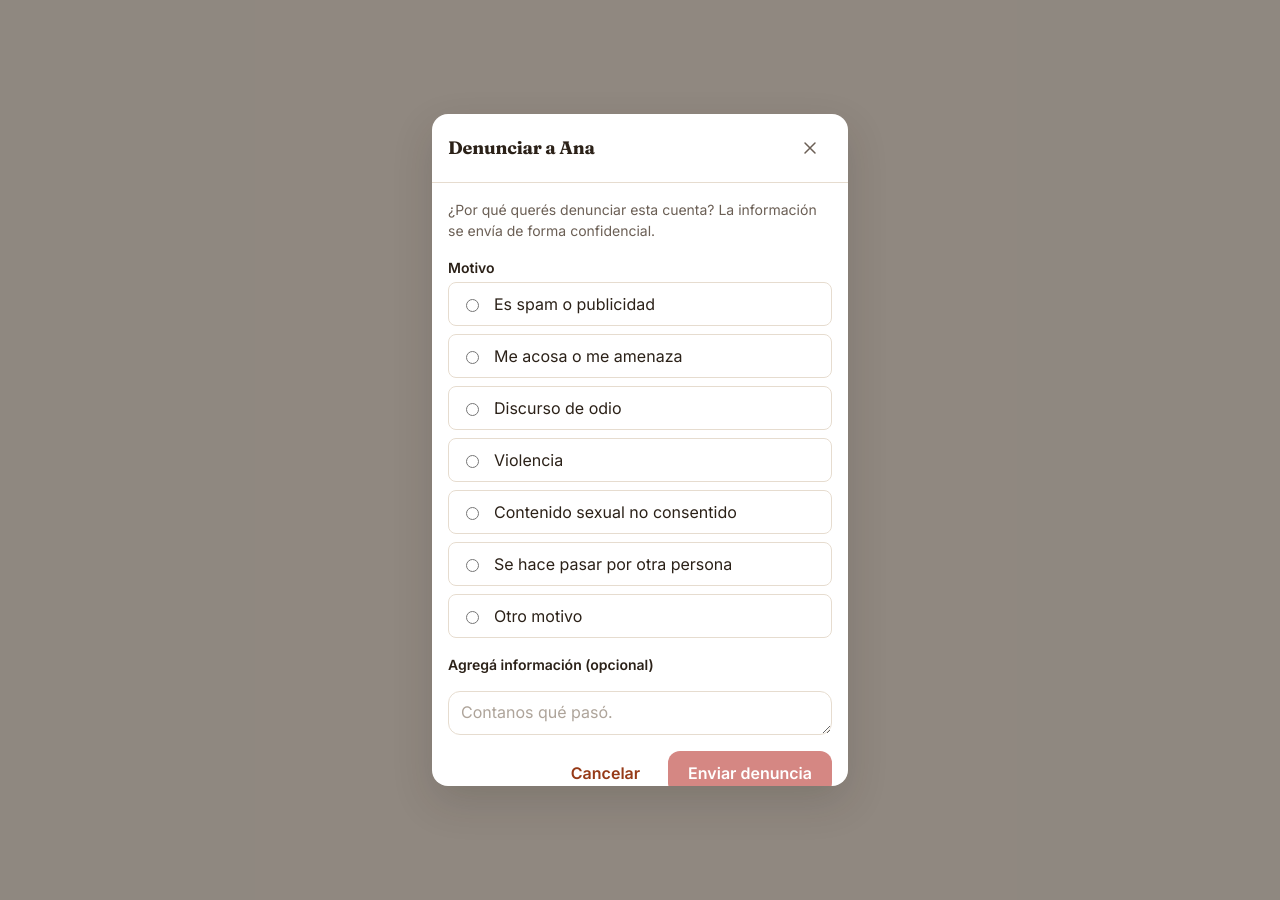
ReportModal › muestra el error si el servidor rechaza la denuncia
Click the radio button labelled "Es spam o publicidad" at (472, 306), box [466,299,479,312]
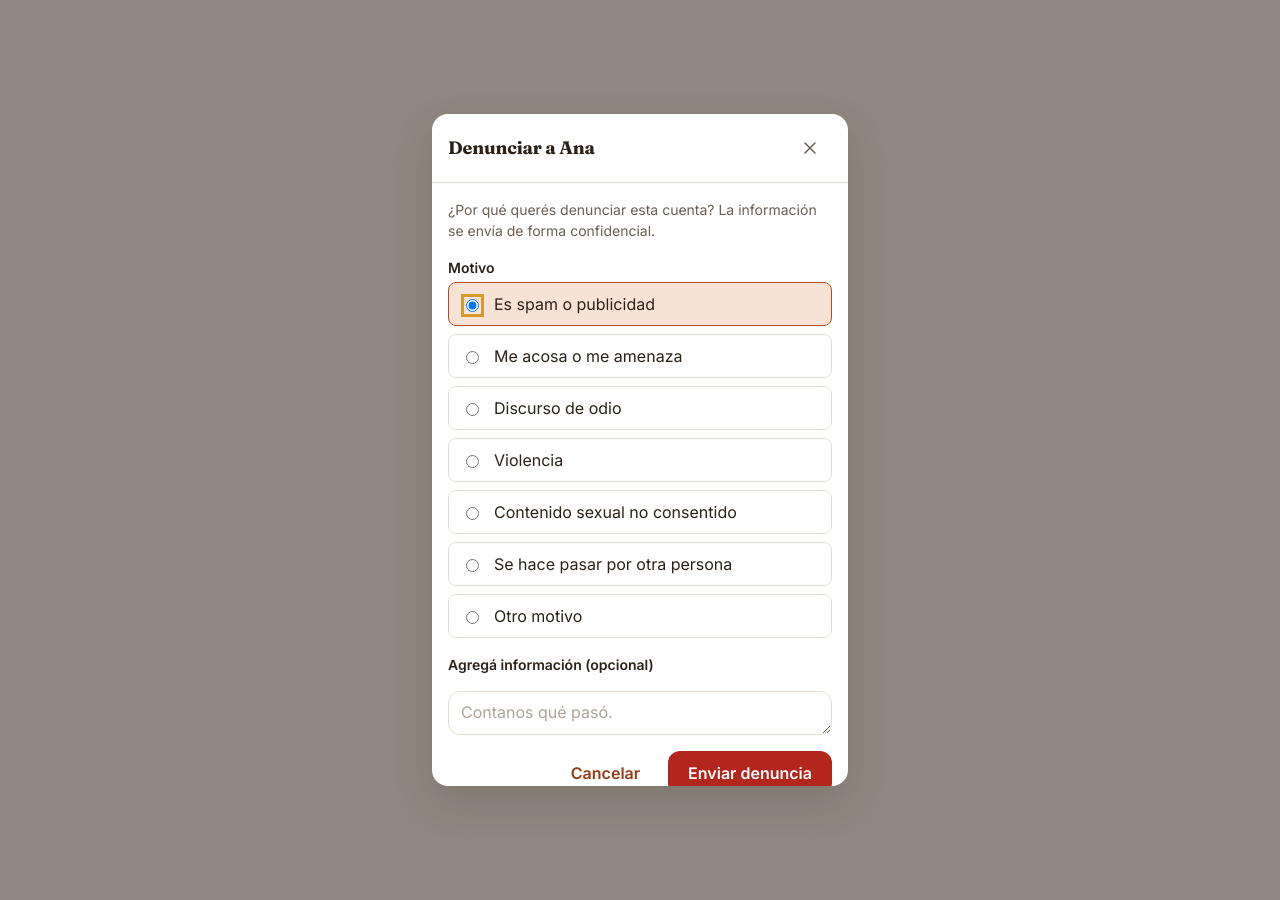
Click the button "Enviar denuncia" at (750, 773), box [668,751,832,795]
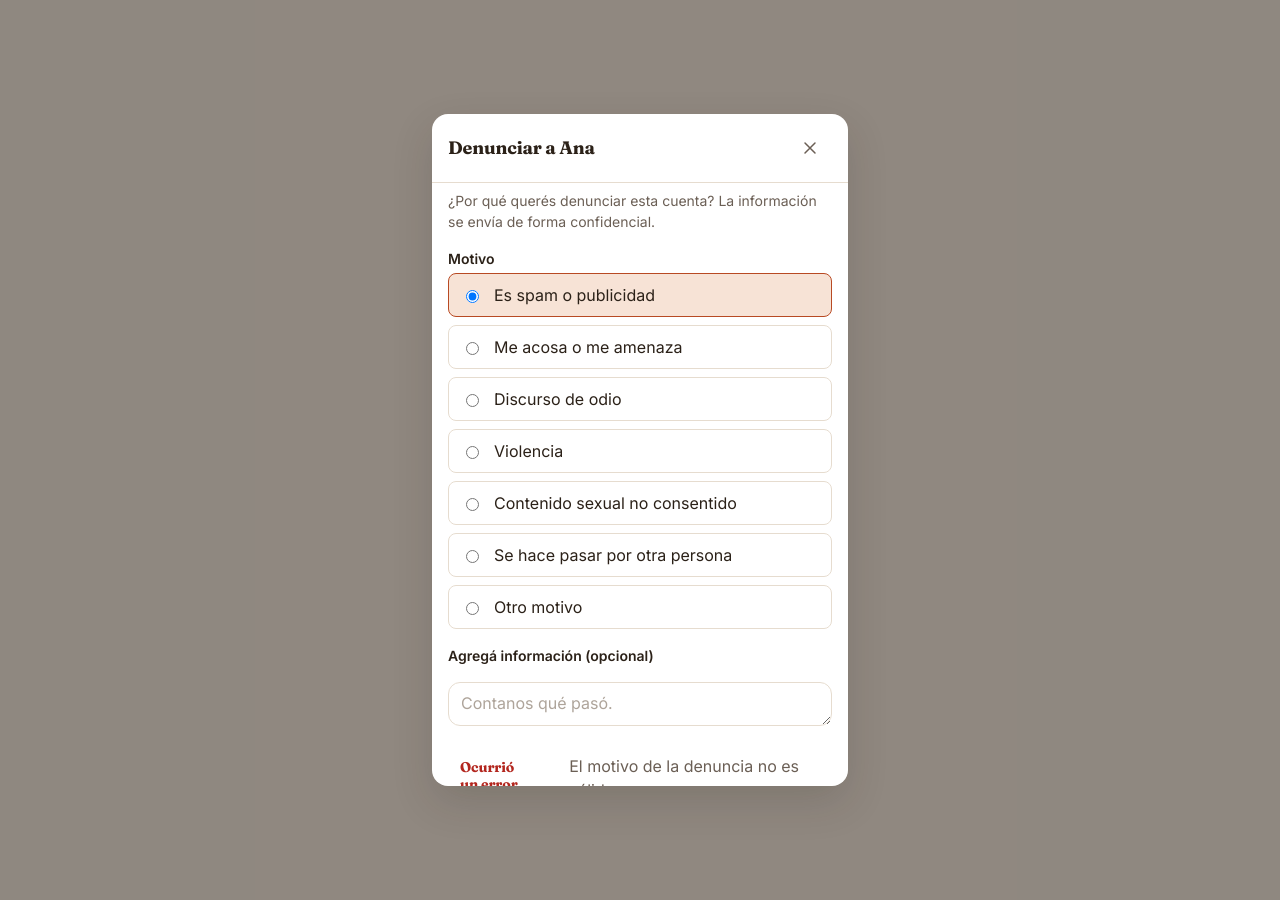
Expected: the message shows "no es válido", [569,756,799,786]
